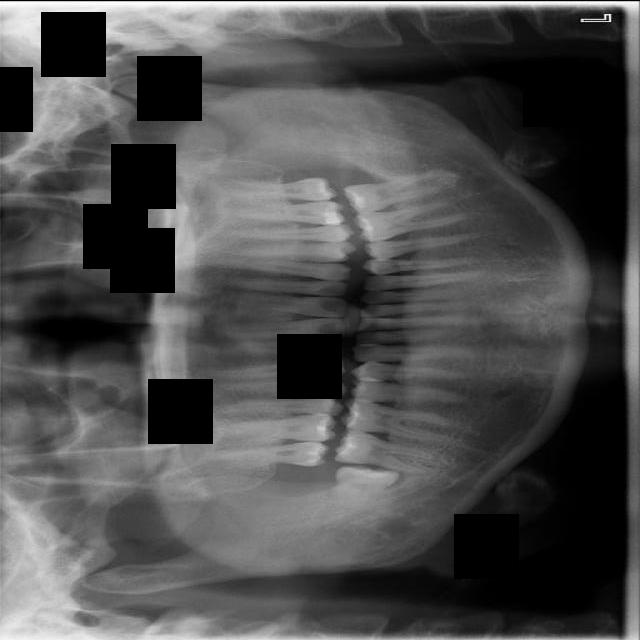52: (341, 174, 388, 221), (334, 426, 378, 469), (339, 394, 379, 437), (297, 409, 338, 445), (352, 211, 394, 242), (299, 175, 339, 203), (310, 198, 345, 226), (293, 440, 330, 466)
73: (546, 63, 570, 74)
BioHorizons Implant: (232, 174, 338, 202)
Blue Sky Bio Implant: (342, 168, 445, 218)
Caries: (207, 440, 330, 466)
Implant: (334, 427, 437, 476)
Keystone Dental Implant: (331, 463, 399, 504)
